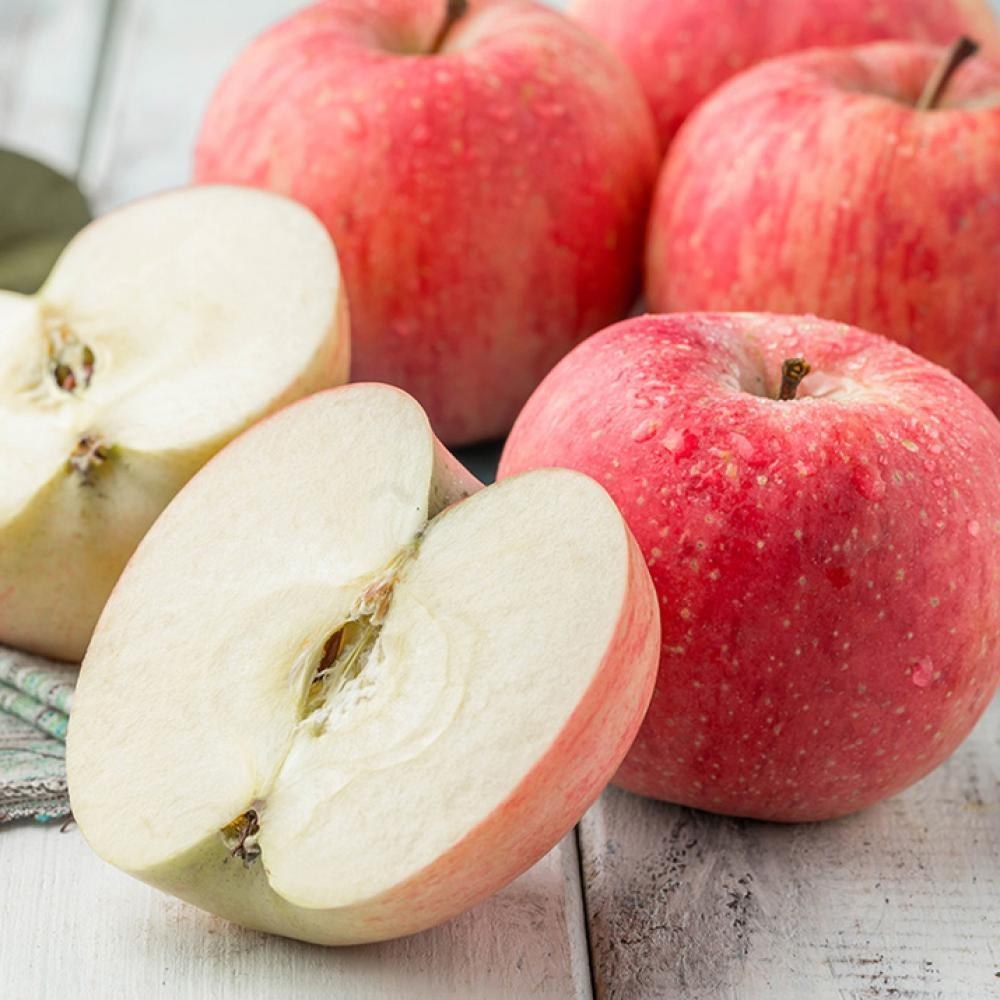apple: (510, 322, 1000, 841), (197, 1, 640, 431), (647, 35, 1000, 396)
